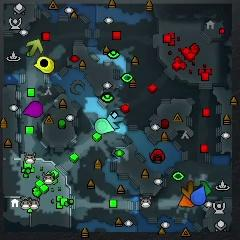p1: (190, 186, 206, 206)
p2: (94, 118, 115, 134)
p3: (23, 100, 44, 117)
p4: (34, 59, 55, 74)
p4Clone: (38, 57, 49, 68)
p5: (179, 195, 195, 207)
x2: (27, 39, 43, 55)
x3: (107, 112, 124, 129)
x4: (194, 180, 211, 195)
x5: (181, 181, 195, 198)
